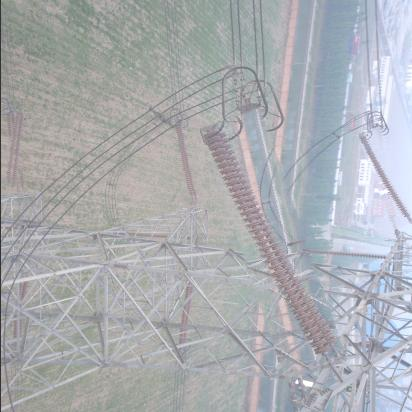insulator: (221, 111, 327, 382), (367, 128, 408, 231), (3, 113, 32, 189), (176, 121, 198, 203)
